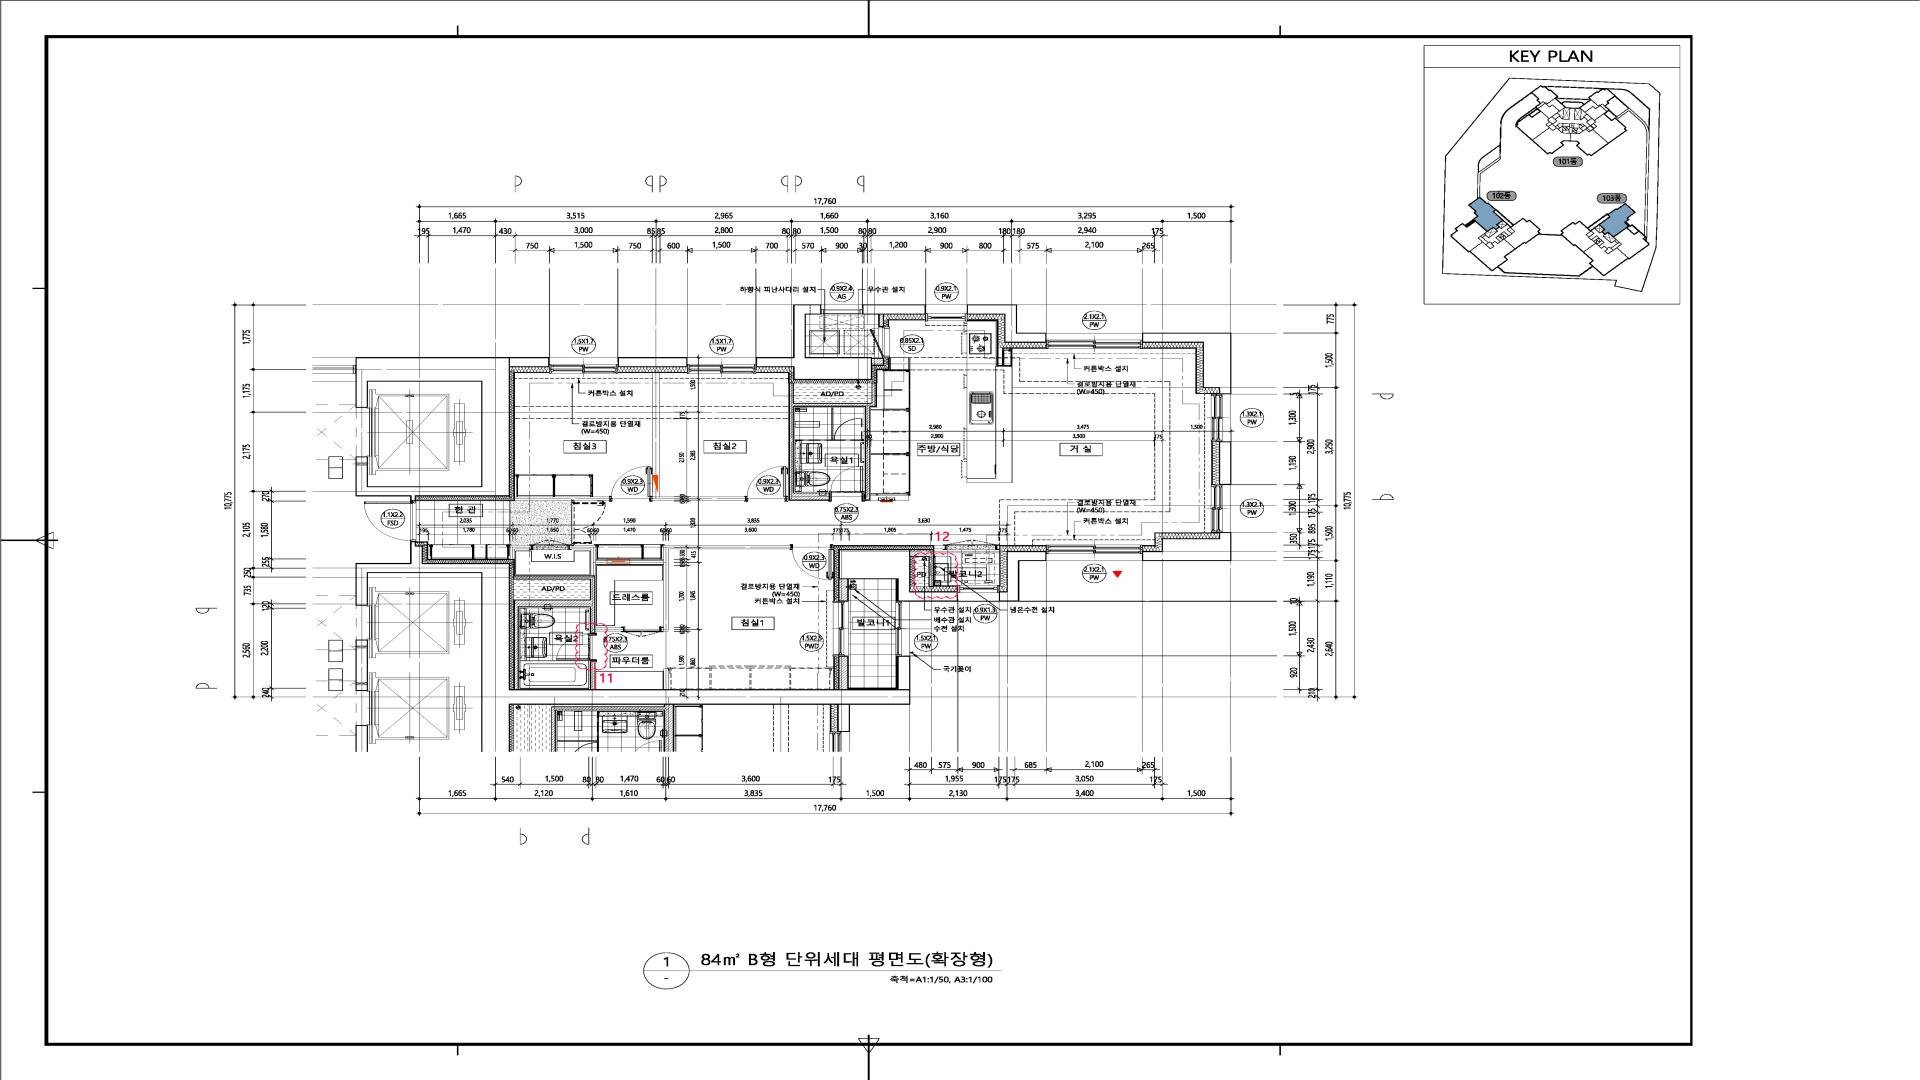background: (0, 0, 1920, 1080)
door: (364, 500, 416, 541), (610, 466, 653, 502), (745, 466, 788, 502), (791, 544, 834, 580), (571, 501, 606, 545), (829, 467, 865, 502), (556, 633, 597, 661), (834, 416, 865, 441), (869, 327, 890, 358), (945, 540, 995, 550), (623, 626, 662, 637)
wall: (355, 541, 910, 752), (513, 545, 791, 689), (355, 357, 550, 500), (789, 383, 909, 501), (652, 373, 745, 501), (756, 305, 872, 380), (838, 549, 958, 602), (1142, 333, 1231, 394), (967, 304, 1047, 343), (1143, 532, 1232, 561), (999, 551, 1046, 601), (910, 550, 941, 586), (618, 357, 688, 367), (355, 640, 368, 691), (862, 305, 926, 315), (1219, 442, 1231, 485), (515, 497, 609, 501), (839, 656, 849, 689), (356, 725, 368, 752), (509, 545, 531, 559), (996, 347, 1012, 366), (839, 579, 849, 602), (590, 662, 596, 689), (872, 358, 884, 366), (664, 669, 668, 689), (878, 315, 884, 327), (934, 545, 945, 549), (995, 544, 1000, 550)
window: (1046, 333, 1142, 349), (1046, 545, 1142, 561), (549, 357, 618, 374), (687, 357, 756, 373), (312, 358, 356, 382), (1211, 485, 1231, 532), (1211, 394, 1231, 441), (833, 601, 849, 656), (896, 602, 910, 656), (958, 585, 999, 602), (926, 305, 967, 321), (821, 305, 862, 314)
